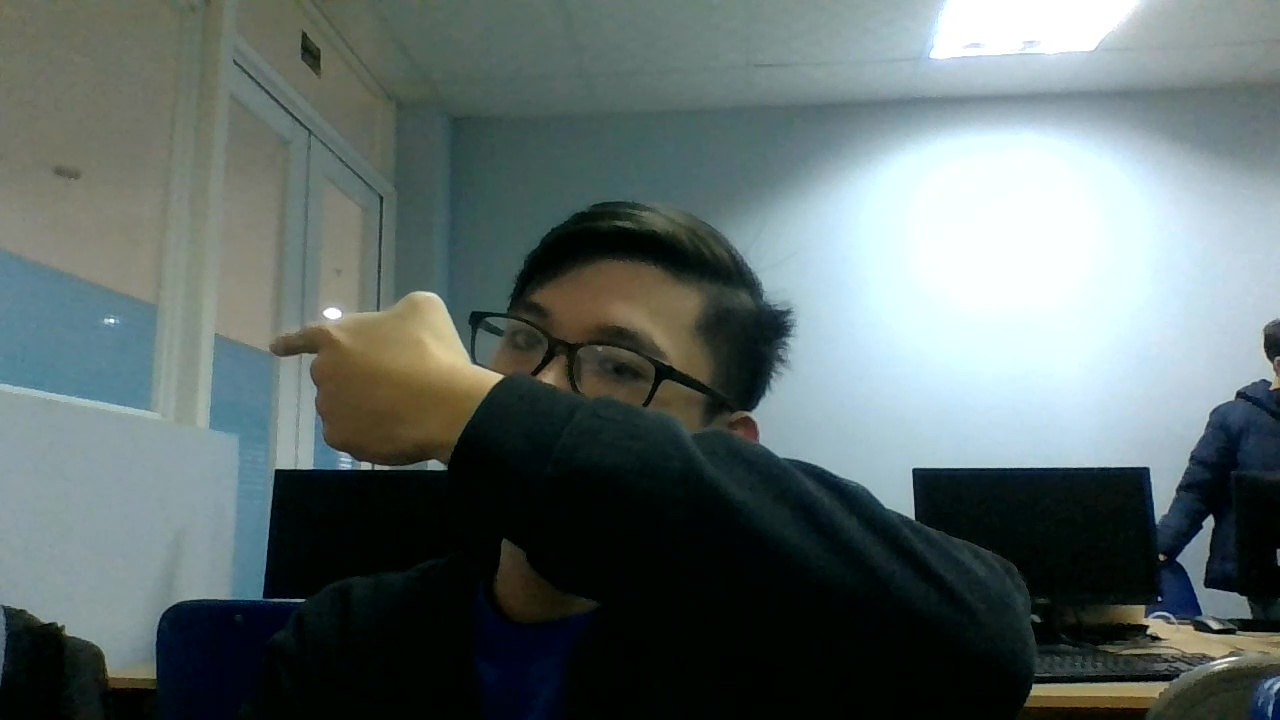right: (266, 288, 460, 480)
